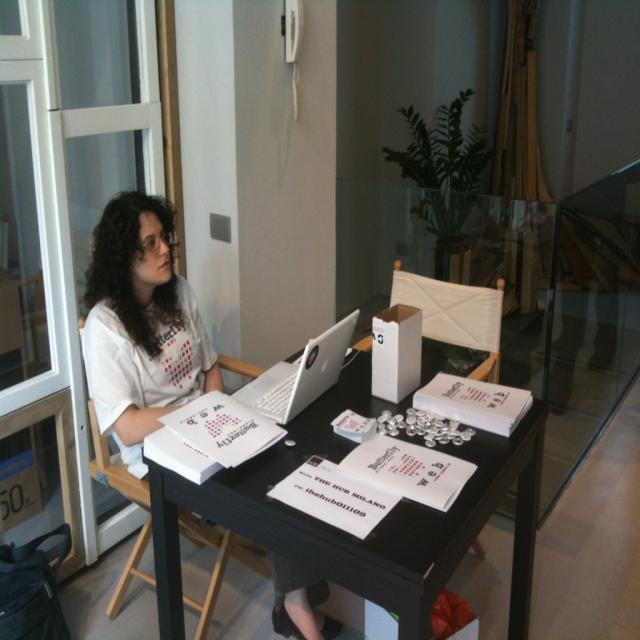chair: (80, 328, 156, 624)
desk: (140, 350, 544, 640)
laptop: (230, 309, 359, 427)
person: (83, 188, 235, 640)
